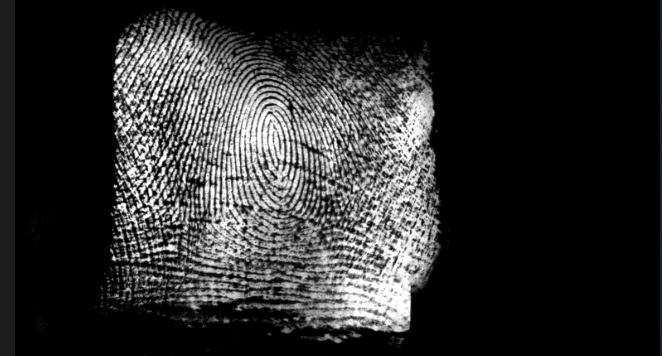nucelo: (263, 116, 279, 166)
verticilo: (172, 203, 194, 228)
